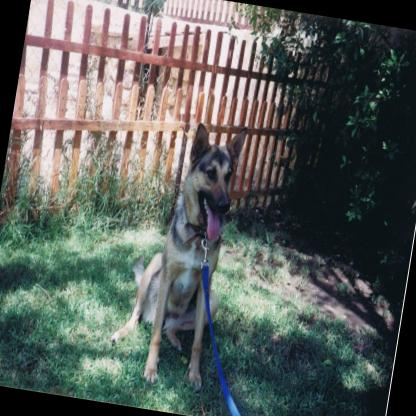German_shepherd: (103, 109, 247, 392)
